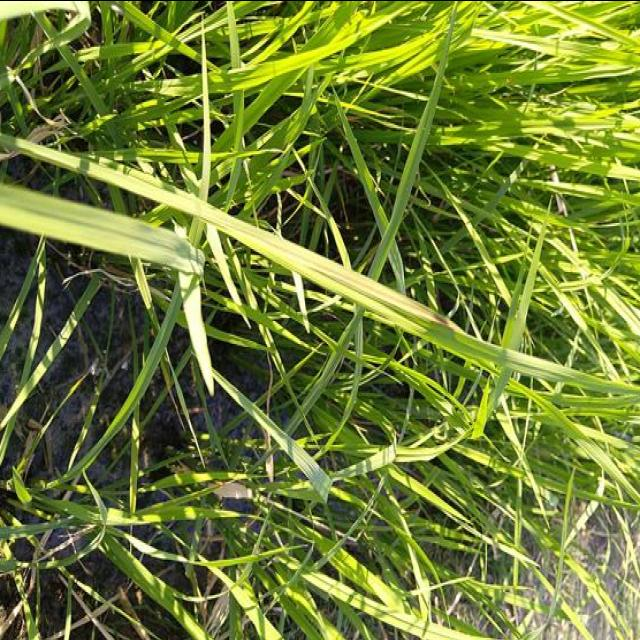Leaf Streak: (297, 242, 466, 334)
